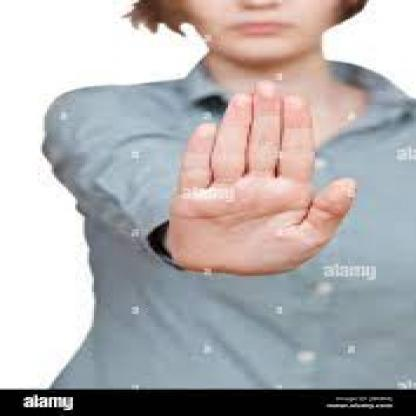stop: (172, 78, 370, 284)
